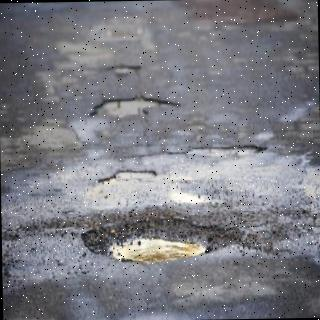pothole: (80, 218, 240, 261), (91, 96, 179, 118), (183, 145, 265, 160), (97, 168, 155, 187), (104, 62, 141, 76)
